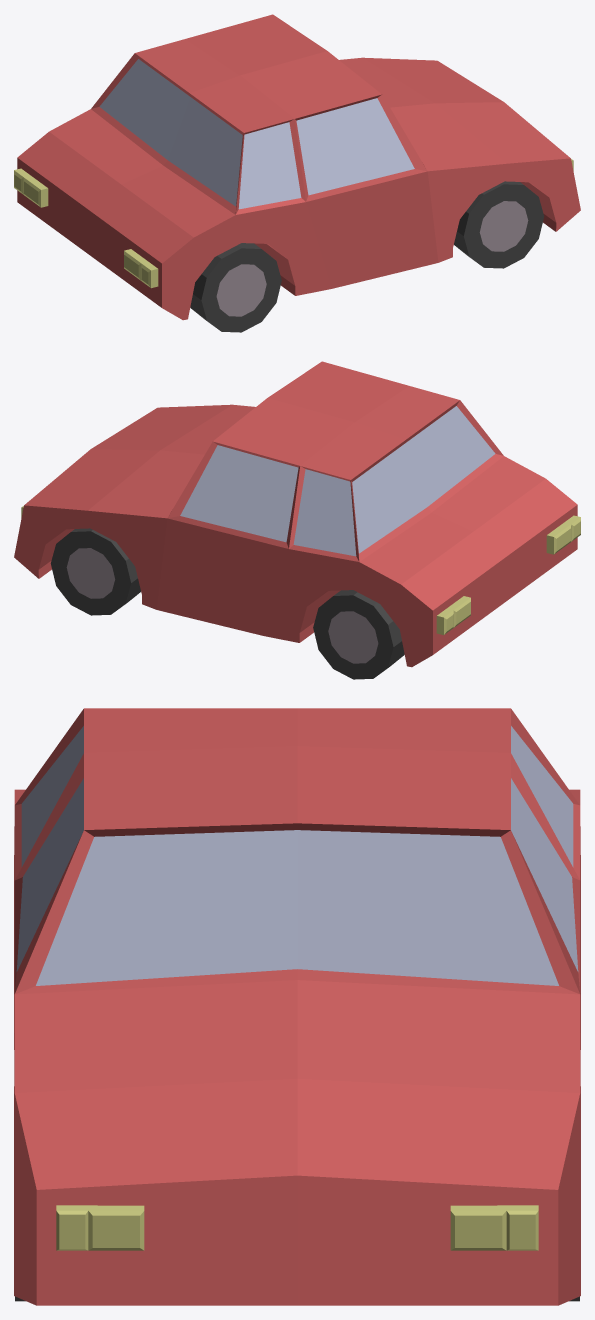
File: car_red.fbx
3 renders of one model, top to bottom at view 1: azimuth 30°, elevation 25°; view 2: azimuth 150°, elevation 25°; view 3: azimuth 270°, elevation 25°, orthographic. The views are drawn at different scales.
Parts seen in each view (by area): view 1: Cube; view 2: Cube; view 3: Cube.
Part boxes in pixels (box(x1,y1,x2,y2)): Cube: box(14, 14, 580, 332); Cube: box(14, 361, 580, 679); Cube: box(14, 708, 580, 1305).
Size of the model in its own units: 572 by 240 by 332.
